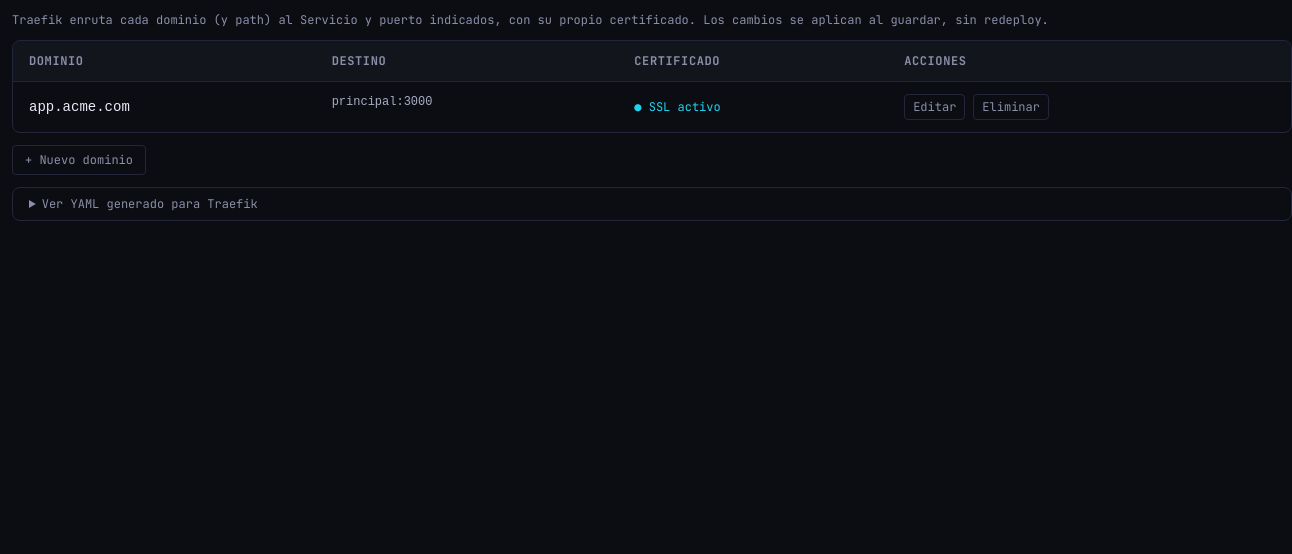
Test case: DominiosPanel — alta y edición › muestra el error del servidor y mantiene el formulario abierto
Click the button "+ Nuevo dominio": (79, 160) x1=12 y1=145 x2=146 y2=175
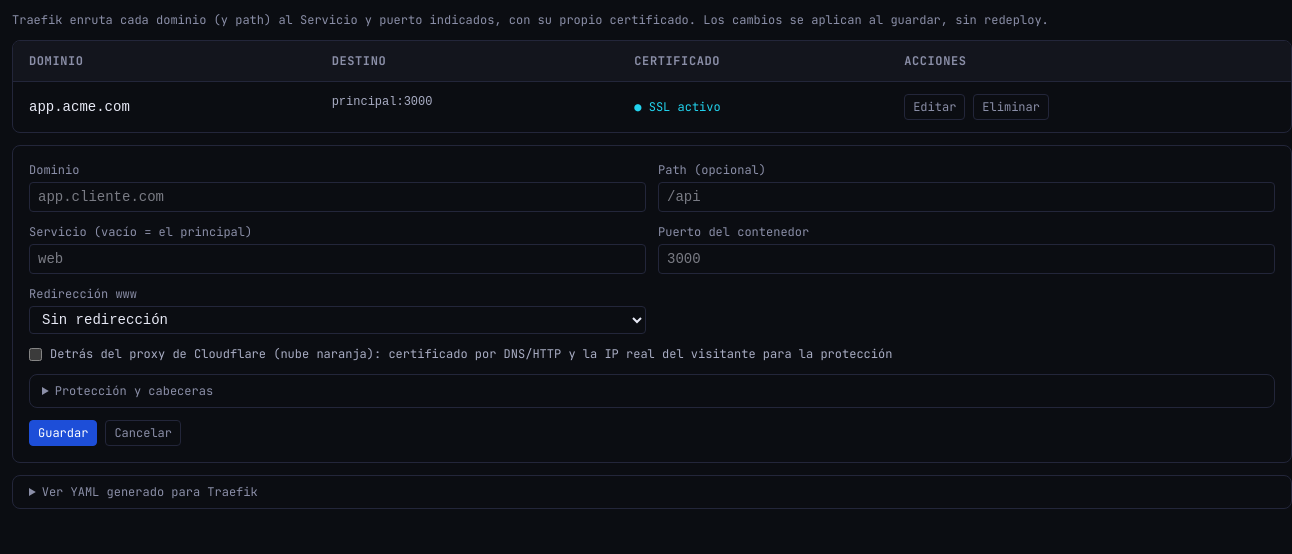
In the field labelled "Dominio": (338, 197) x1=29 y1=182 x2=646 y2=212, type "app.acme.com"
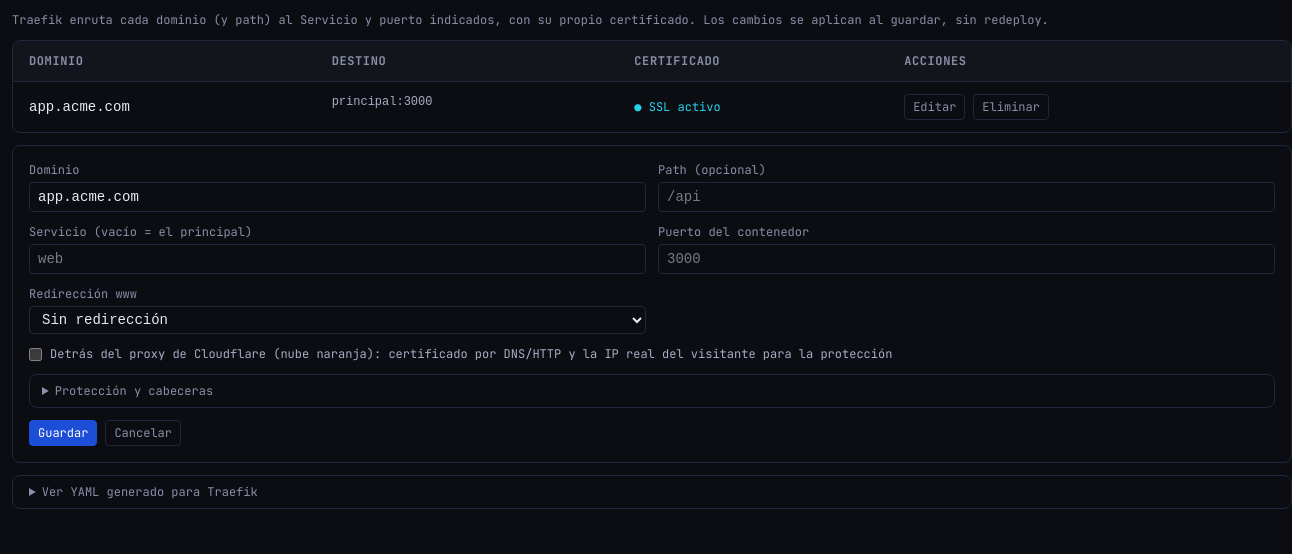
Click the button "Guardar": (63, 433) x1=29 y1=420 x2=97 y2=446
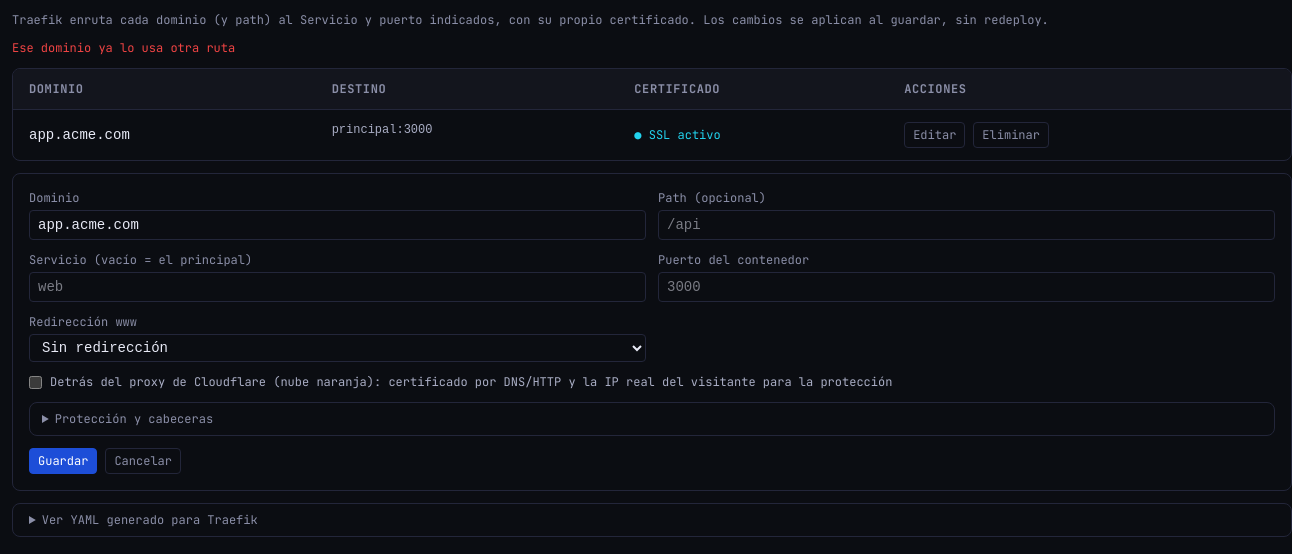
Check: the message reads "Ese dominio ya lo usa otra ruta", box x1=12 y1=40 x2=235 y2=56
